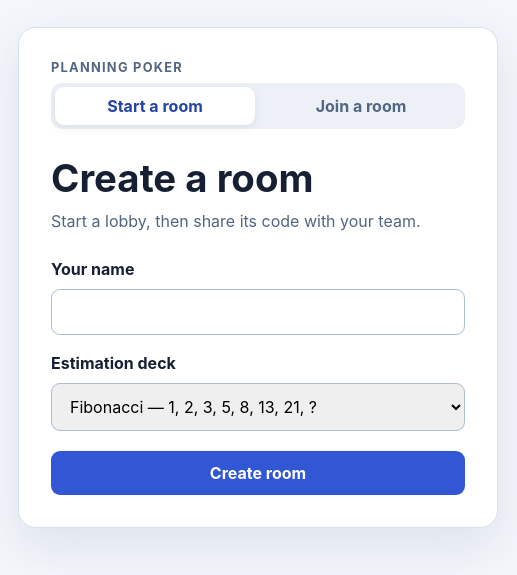
Test: starting the first story › does not show story controls to a participant in the lobby
Click the button "Join a room": (361, 106) [261,86,461,124]
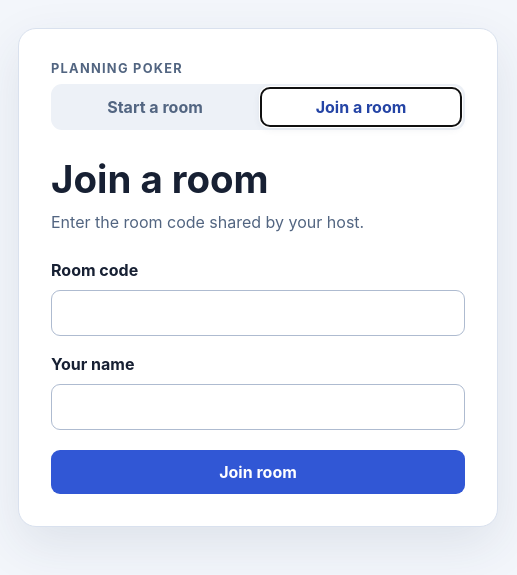
In the field labelled "Room code": (258, 312) [51,290,465,336], type "ABC123"
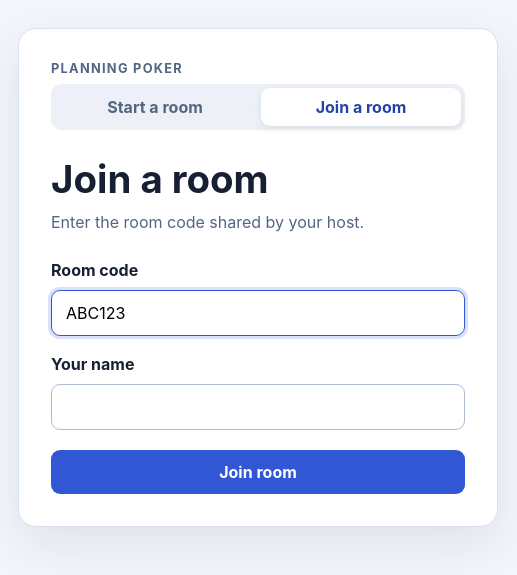
In the field labelled "Your name": (258, 406) [51,384,465,430], type "Sam"
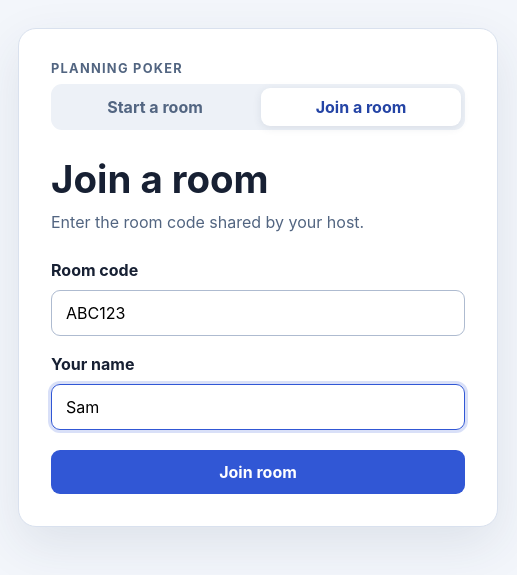
Click the button "Join room": (258, 472) [51,450,465,494]
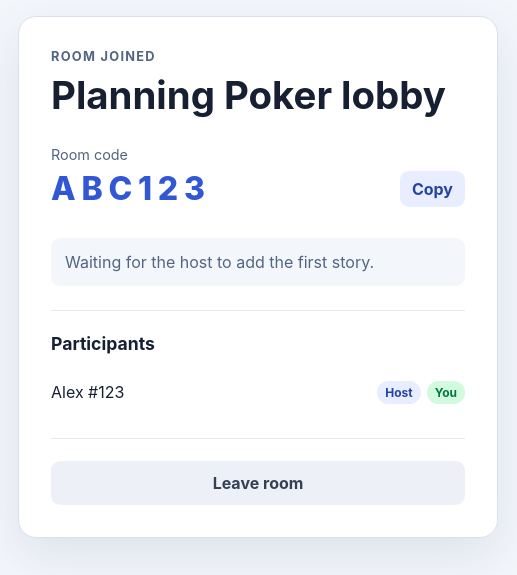
Now the text "Waiting for the host to add the first story." is shown, box [51,238,465,286]
